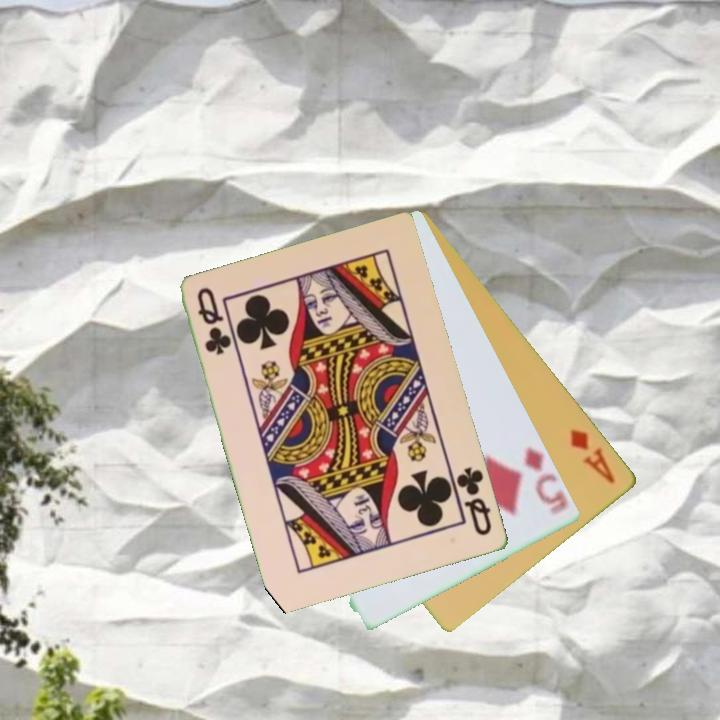5d: (521, 443, 571, 518)
Ad: (567, 425, 619, 487)
Qc: (448, 463, 496, 539), (194, 284, 233, 358)
